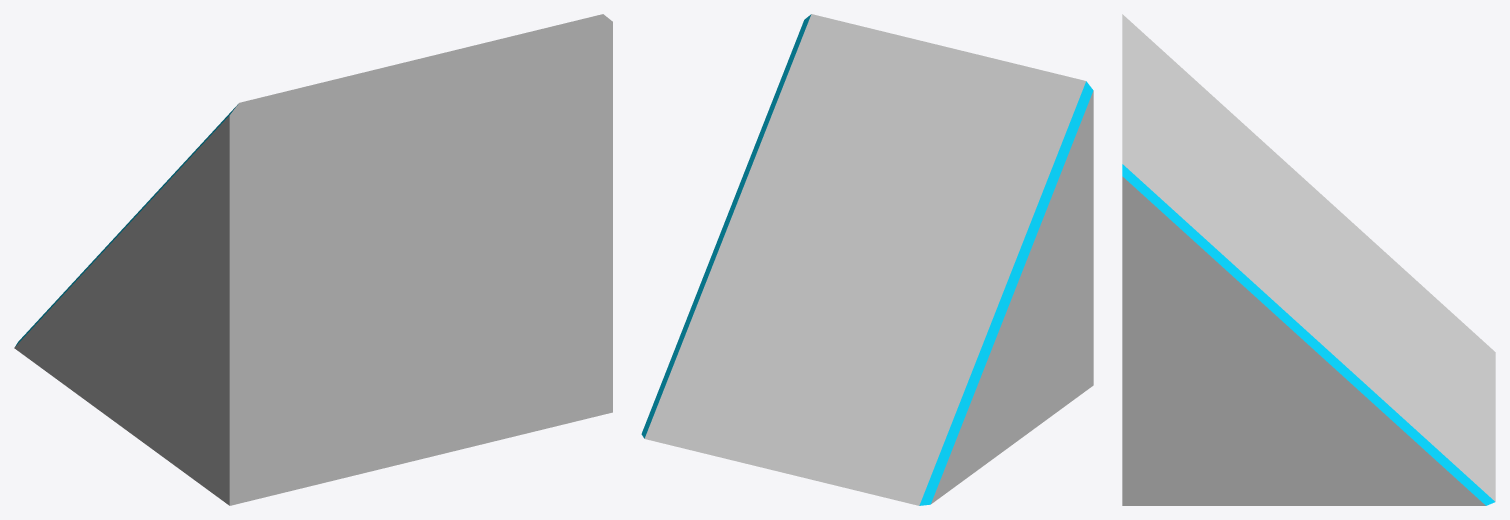
The model's file is neon_white_ramp_bevelled_1x1.obj.
3 views of the same model, side by side, from view 1: azimuth 30°, elevation 25°; view 2: azimuth 150°, elevation 25°; view 3: azimuth 270°, elevation 25° (orthographic). The views are drawn at different scales.
Parts seen in each view (by area): view 1: neon_white_ramp_bevelled_1x1; view 2: neon_white_ramp_bevelled_1x1; view 3: neon_white_ramp_bevelled_1x1.
Part boxes in pixels (bbox=[...]): neon_white_ramp_bevelled_1x1: bbox=[14, 14, 612, 505]; neon_white_ramp_bevelled_1x1: bbox=[641, 14, 1093, 505]; neon_white_ramp_bevelled_1x1: bbox=[1122, 14, 1495, 505].
Bounding box in the file's own units: 1 × 1 × 1.
